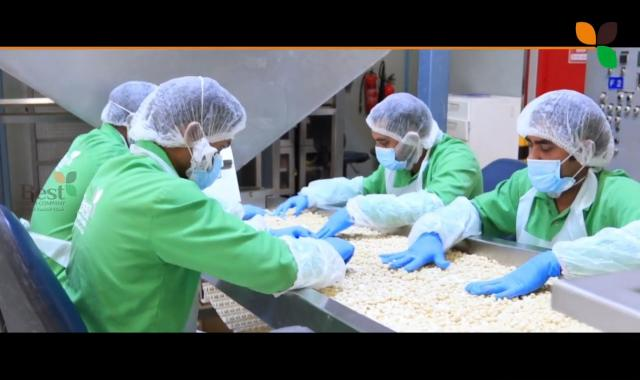hairnet: (128, 77, 251, 153), (520, 87, 614, 173), (372, 93, 436, 156), (97, 78, 153, 124)
